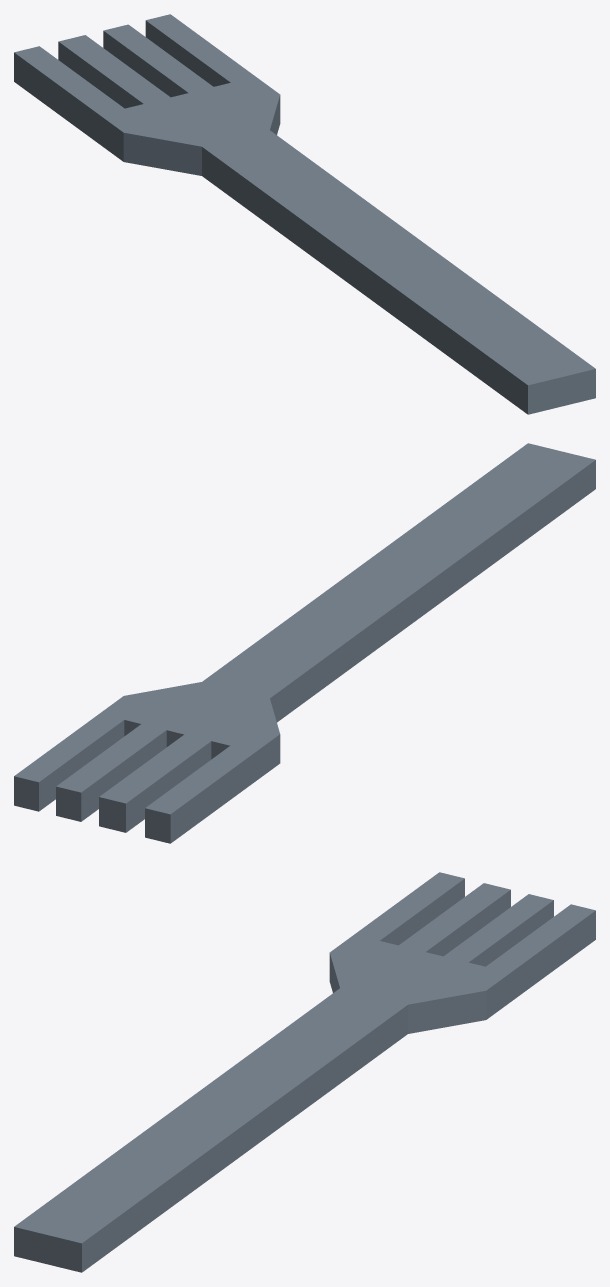
File: CutleryFork.fbx
3 views of the same model, one above another, from view 1: azimuth 30°, elevation 25°; view 2: azimuth 150°, elevation 25°; view 3: azimuth 330°, elevation 25° (orthographic).
Parts seen in each view (by area): view 1: CutleryFork; view 2: CutleryFork; view 3: CutleryFork.
Part boxes in pixels (left/top/right/bottom): CutleryFork: left=14, top=14, right=595, bottom=414; CutleryFork: left=14, top=443, right=595, bottom=843; CutleryFork: left=14, top=872, right=595, bottom=1272.
Bounding box in the file's own units: 13.87 × 2.49 × 72.12.
